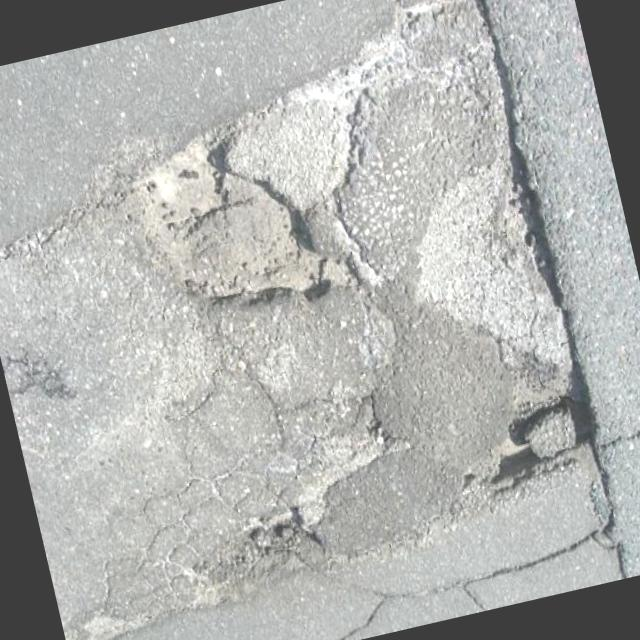pothole: (109, 110, 350, 346), (384, 150, 588, 400), (452, 361, 616, 506)
